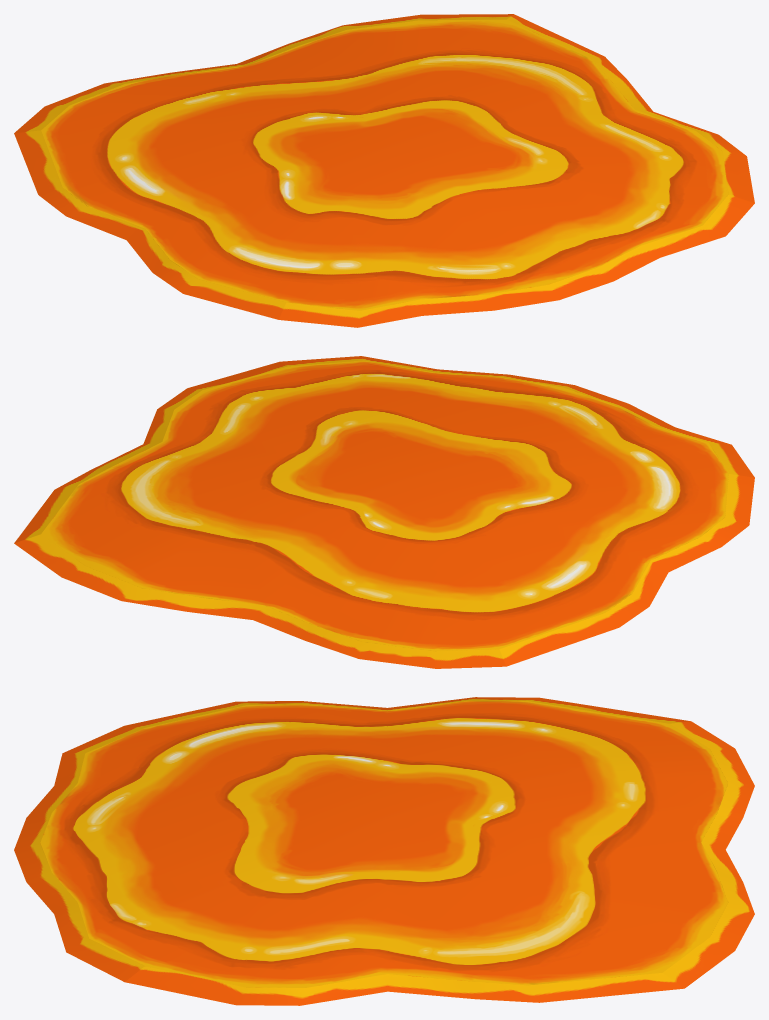
Rendered from konnseki_Maguma.fbx.
The picture shows the model from 3 angles, top to bottom: view 1: azimuth 30°, elevation 25°; view 2: azimuth 150°, elevation 25°; view 3: azimuth 270°, elevation 25°; orthographic projection. The views are drawn at different scales.
Parts seen in each view (by area): view 1: mgaguma; view 2: mgaguma; view 3: mgaguma.
Part boxes in pixels (x1,y1,x2,y2): mgaguma: [14, 14, 754, 327]; mgaguma: [14, 356, 754, 668]; mgaguma: [14, 697, 754, 1005].
Bounding box in the file's own units: 58.69 × 2.87 × 59.54.
1 material, 1 textured.
